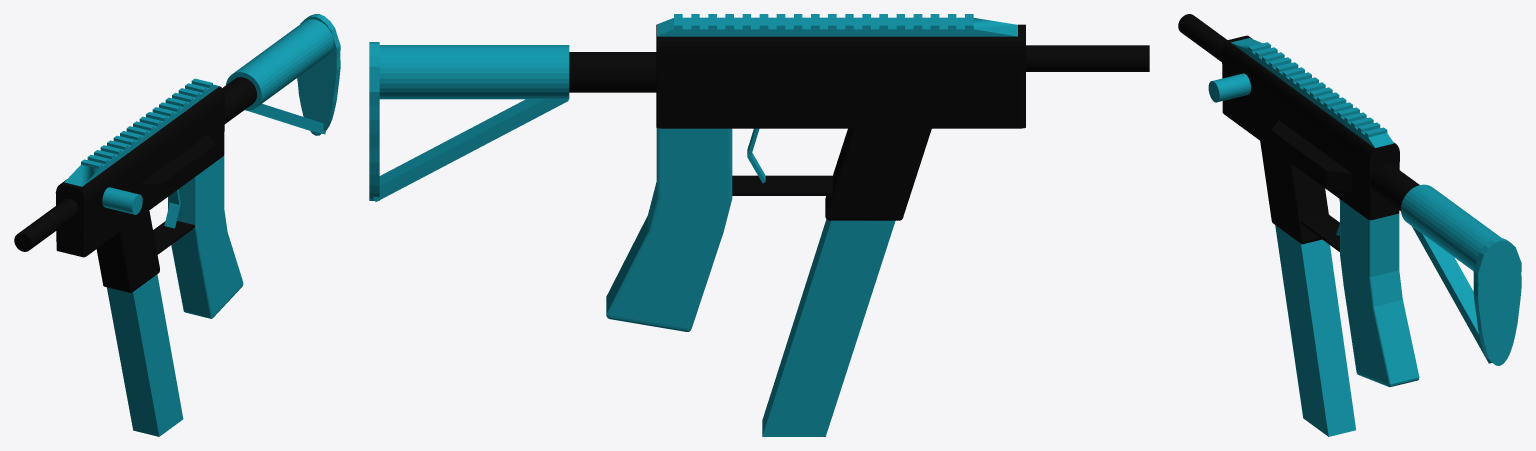
The model's file is fgc0013.obj.
3 renders of one model, left to right at view 1: azimuth 30°, elevation 25°; view 2: azimuth 150°, elevation 25°; view 3: azimuth 270°, elevation 25°, orthographic. The views are drawn at different scales.
Parts seen in each view (by area): view 1: upperReceiver, mag, rearPistolGrip, StockCylinder, picatinyRail, magWell, buttPlate, ejectorCover, barrel, bufferTube, stockSupport, chargingHandle (+1 smaller); view 2: upperReceiver, rearPistolGrip, mag, StockCylinder, magWell, picatinyRail, stockSupport, bufferTube, barrel, lowerTriggerGuard, buttPlate; view 3: rearPistolGrip, mag, upperReceiver, buttPlate, StockCylinder, picatinyRail, magWell, ejectorCover, stockSupport, bufferTube, barrel, chargingHandle (+1 smaller).
Part boxes in pixels (x1,y1,x2,y2): upperReceiver: (55,86,224,257); mag: (107,274,183,436); rearPistolGrip: (168,155,243,318); StockCylinder: (226,19,333,110); picatinyRail: (64,78,219,186); magWell: (96,211,159,292); buttPlate: (297,14,340,135); ejectorCover: (139,134,215,202); barrel: (14,198,78,251); bufferTube: (222,77,256,123); stockSupport: (247,104,326,134); chargingHandle: (102,187,142,214); upperReceiver: (656,24,1025,128); rearPistolGrip: (606,128,732,331); mag: (762,219,895,436); StockCylinder: (379,45,569,99); magWell: (825,128,931,220); picatinyRail: (657,14,1017,36); stockSupport: (373,99,568,201); bufferTube: (569,52,656,92); barrel: (1026,45,1149,71); lowerTriggerGuard: (732,175,832,195); buttPlate: (369,42,379,200); rearPistolGrip: (1340,199,1419,387); mag: (1275,225,1355,436); upperReceiver: (1222,35,1399,220); buttPlate: (1473,237,1521,365); StockCylinder: (1401,184,1500,270); picatinyRail: (1231,38,1393,148); magWell: (1260,141,1328,244); ejectorCover: (1271,120,1351,191); stockSupport: (1412,226,1491,363); bufferTube: (1371,164,1419,210); barrel: (1178,14,1227,61); chargingHandle: (1208,73,1250,102).
Bounding box in the file's own units: 4.08 × 2.64 × 2.51.
